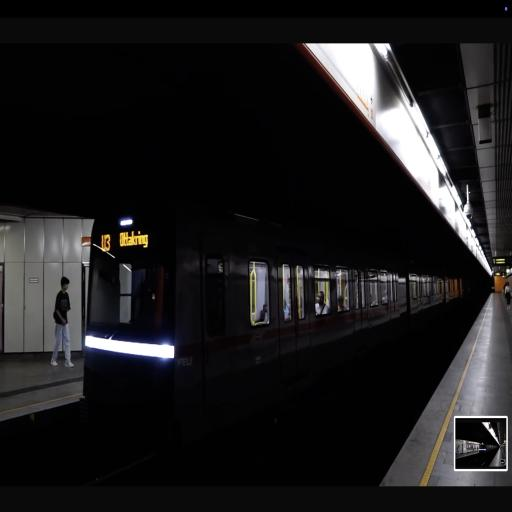X-Wagen: (85, 204, 463, 412)
